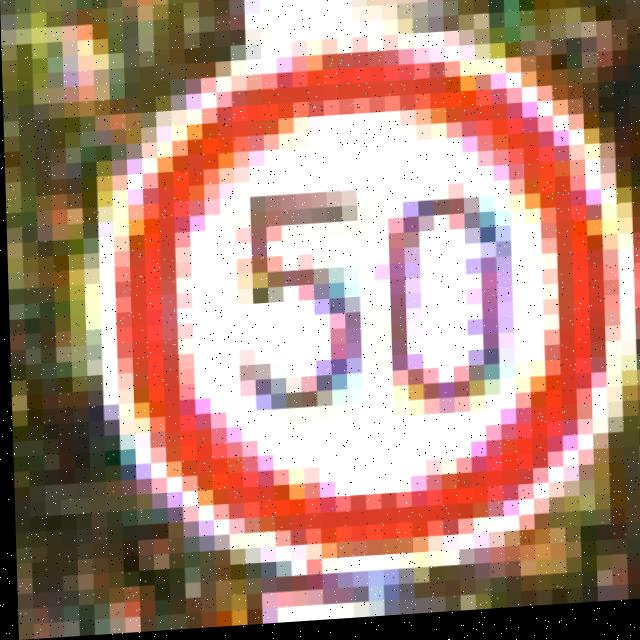speed_limit_50: (76, 0, 640, 620)
